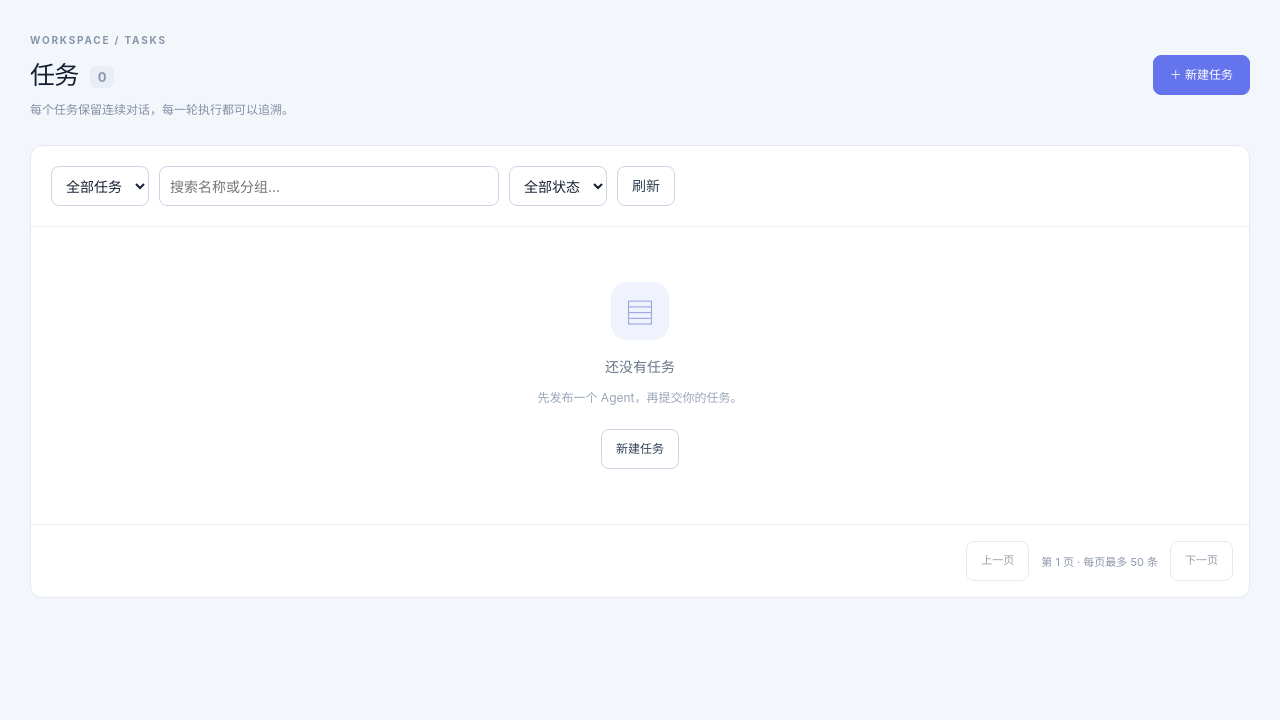
Test: searches all task pages on the server and resets pagination when filters change
The width and height of the screenshot is (1280, 720).
Step 1. Type "older" into the field with placeholder "搜索名称或分组…" → (329, 186), box [159,166,499,206]
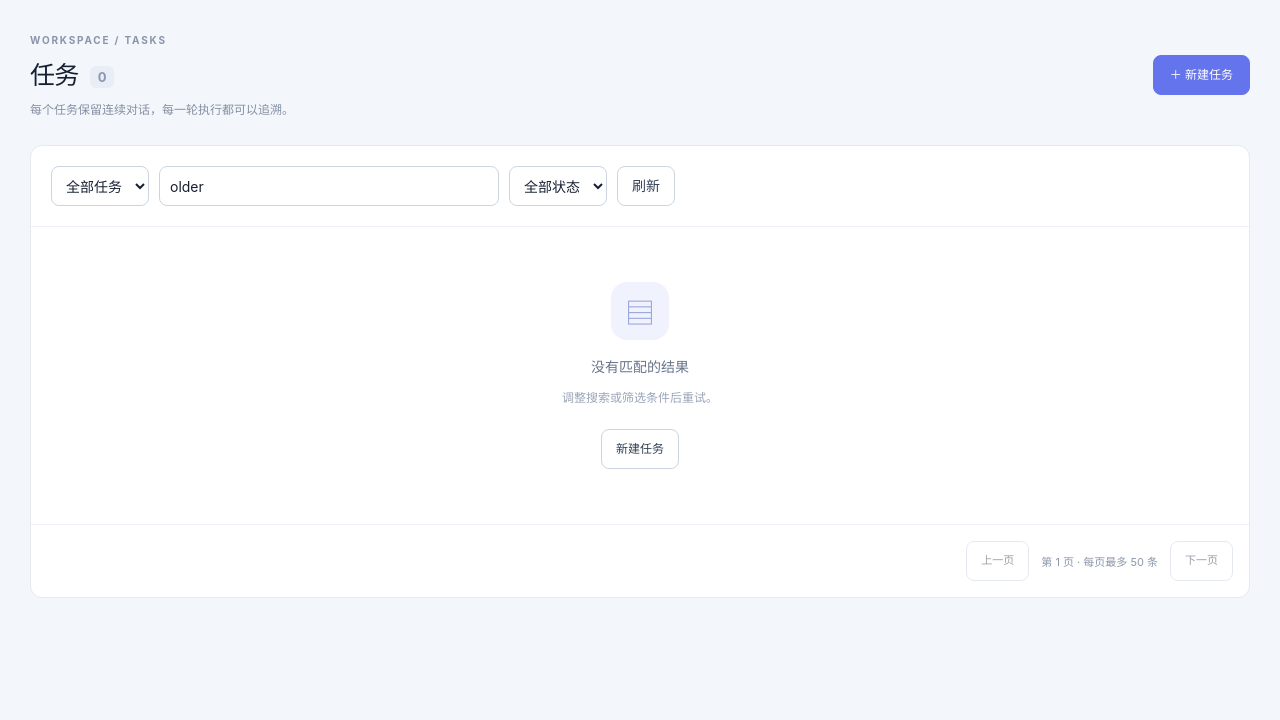
Step 2. Select "我的任务" in the dropdown named "任务范围" → (100, 186), box [51,166,149,206]
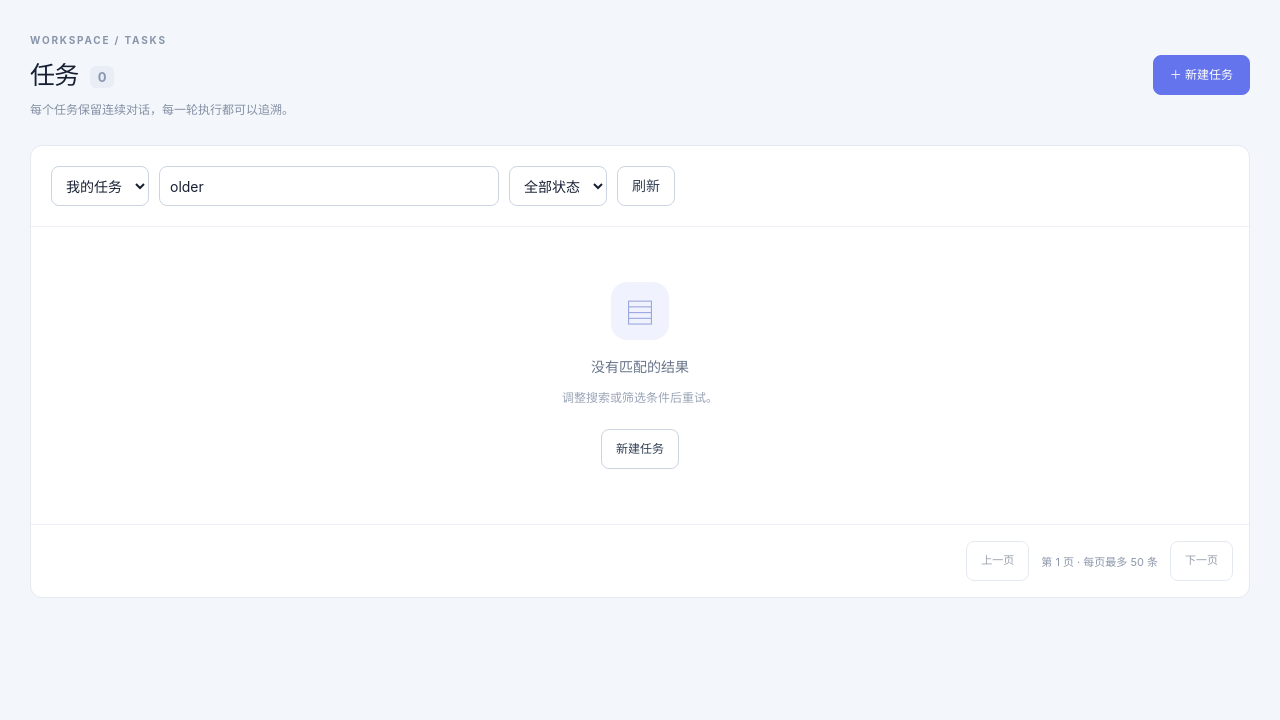
Step 3. Select "执行失败" in the dropdown named "状态筛选" → (558, 186), box [509,166,607,206]
Wait 260 ms
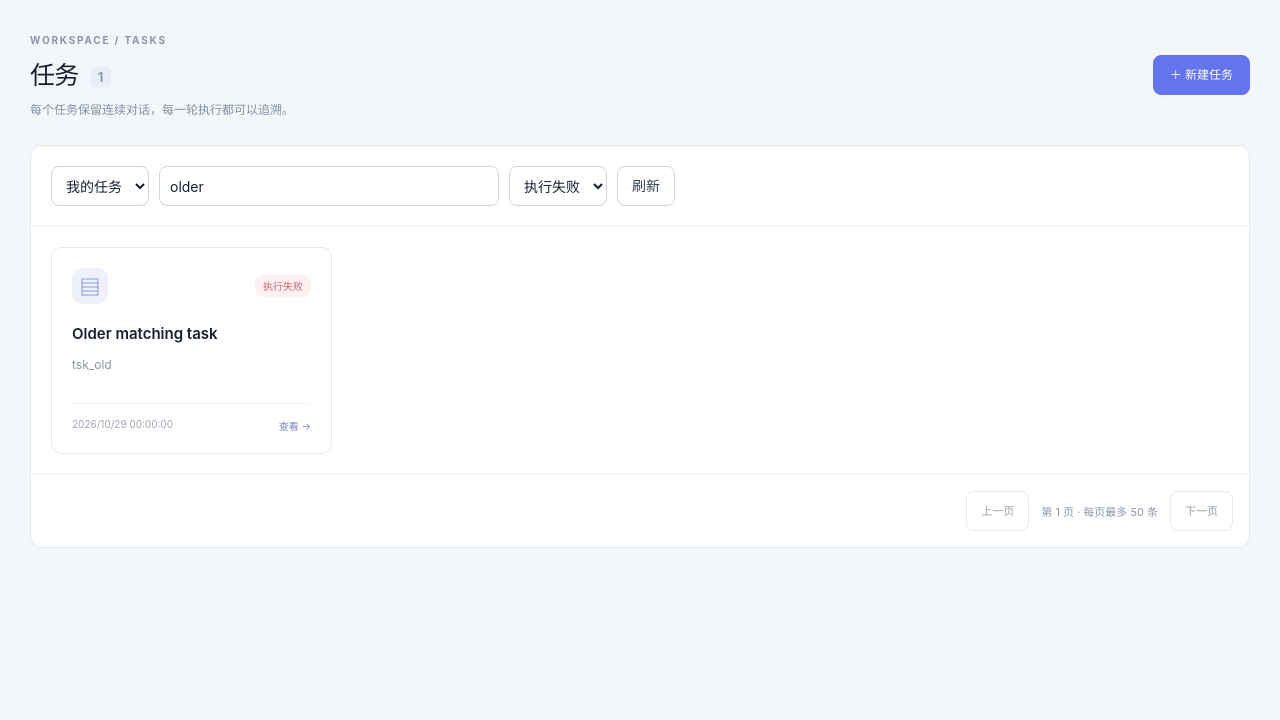
Result: the text "Older matching task" is shown at [72,324,218,343]
